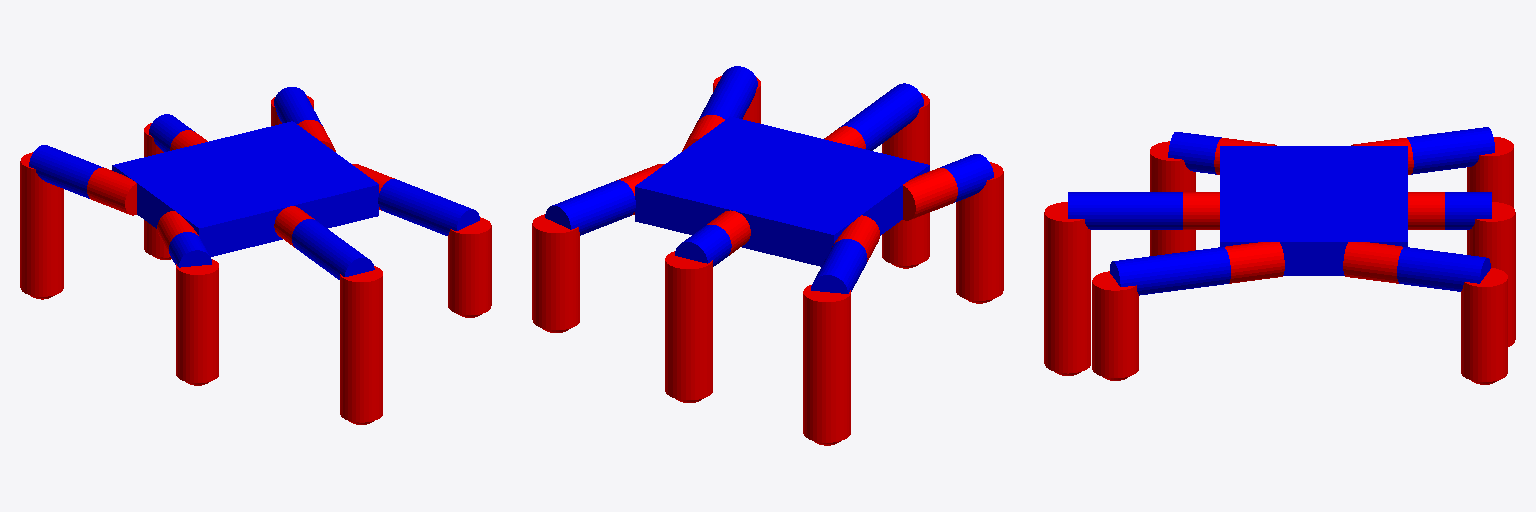
--- Render facts (derived) ---
Views: 3 orthographic renders of the robot side by side, from view 1: azimuth 30°, elevation 25°; view 2: azimuth 150°, elevation 25°; view 3: azimuth 270°, elevation 25°.
Robot: pexod — 19 links, 18 joints (18 revolute); root link base_link; default pose: every joint at zero.
Visible links, largest first — view 1: base_link, leg_4_3, leg_0_3, leg_5_3, leg_3_3, leg_3_2, leg_4_2, leg_0_2, leg_0_1, leg_2_2, leg_5_2, leg_1_3 (+3 smaller); view 2: base_link, leg_0_3, leg_1_3, leg_5_3, leg_2_3, leg_4_3, leg_2_2, leg_4_2, leg_0_2, leg_5_1, leg_3_2, leg_1_2 (+5 smaller); view 3: base_link, leg_4_3, leg_2_3, leg_3_3, leg_4_2, leg_3_2, leg_2_2, leg_1_3, leg_0_2, leg_5_3, leg_0_3, leg_2_1 (+5 smaller).
Boxes of the visible links, left/top/right/bottom form: base_link: left=112, top=121, right=378, bottom=256; leg_4_3: left=340, top=266, right=382, bottom=424; leg_0_3: left=20, top=152, right=63, bottom=299; leg_5_3: left=176, top=259, right=218, bottom=385; leg_3_3: left=448, top=217, right=491, bottom=317; leg_3_2: left=378, top=179, right=479, bottom=235; leg_4_2: left=292, top=219, right=374, bottom=279; leg_0_2: left=29, top=145, right=103, bottom=198; leg_0_1: left=87, top=167, right=136, bottom=215; leg_2_2: left=274, top=87, right=322, bottom=125; leg_5_2: left=169, top=232, right=211, bottom=267; leg_1_3: left=144, top=123, right=171, bottom=259; base_link: left=635, top=116, right=929, bottom=266; leg_0_3: left=803, top=285, right=850, bottom=445; leg_1_3: left=665, top=251, right=712, bottom=402; leg_5_3: left=956, top=162, right=1003, bottom=303; leg_2_3: left=532, top=214, right=579, bottom=332; leg_4_3: left=882, top=93, right=929, bottom=268; leg_2_2: left=545, top=180, right=635, bottom=235; leg_4_2: left=839, top=83, right=923, bottom=150; leg_0_2: left=811, top=239, right=867, bottom=293; leg_5_1: left=903, top=168, right=957, bottom=220; leg_3_2: left=697, top=66, right=757, bottom=121; leg_1_2: left=675, top=225, right=731, bottom=266; base_link: left=1220, top=146, right=1407, bottom=275; leg_4_3: left=1044, top=202, right=1090, bottom=375; leg_2_3: left=1461, top=268, right=1507, bottom=384; leg_3_3: left=1092, top=271, right=1138, bottom=380; leg_4_2: left=1068, top=192, right=1182, bottom=229; leg_3_2: left=1110, top=247, right=1230, bottom=295; leg_2_2: left=1397, top=247, right=1490, bottom=291; leg_1_3: left=1469, top=202, right=1515, bottom=346; leg_0_2: left=1407, top=127, right=1494, bottom=174; leg_5_3: left=1150, top=141, right=1195, bottom=255; leg_0_3: left=1467, top=137, right=1513, bottom=254; leg_2_1: left=1343, top=242, right=1402, bottom=283.
Bounding box of the posed robot: 0.3886 × 0.5019 × 0.2108 m (x, y, z).
Geometry: primitives only (box / cylinder / sphere), no mesh files.

URDF robot description (pexod):
<?xml version="1.0" ?>
<!-- =================================================================================== -->
<!-- |    This document was autogenerated by xacro from pexod.xacro                    | -->
<!-- |    EDITING THIS FILE BY HAND IS NOT RECOMMENDED                                 | -->
<!-- =================================================================================== -->
<robot name="pexod" xmlns:xacro="http://www.ros.org/wiki/xacro">
  <!-- <xacro:include filename="$(find pexod_description)/urdf/pexod_control.xacro" /> -->
  <!-- MATERIALS -->
  <material name="Blue">
    <color rgba="0 0 1 1"/>
  </material>
  <material name="Red">
    <color rgba="1 0 0 1"/>
  </material>
  <material name="Green">
    <color rgba="0 1 0 1"/>
  </material>
  <material name="Yellow">
    <color rgba="1 1 0 1"/>
  </material>
  <material name="LightGrey">
    <color rgba="0.6 0.6 0.6 1.0"/>
  </material>
  <!-- END OF MATERIALS -->
  <!-- XACRO MACROS FOR VISUALS AND COLLISIONS -->
  <!-- END OF XACRO MACROS -->
  <!-- TORSO -->
  <link name="base_link">
    <visual>
      <origin rpy="0 0 0" xyz="0 0 0"/>
      <geometry>
        <box size="0.24 0.2 0.04"/>
      </geometry>
      <material name="Blue"/>
    </visual>
    <collision>
      <origin rpy="0 0 0" xyz="0 0 0"/>
      <geometry>
        <box size="0.24 0.2 0.04"/>
      </geometry>
    </collision>
    <inertial>
      <!-- CENTER OF MASS -->
      <origin rpy="0 0 0" xyz="0 0 0"/>
      <mass value="1.031"/>
      <!-- box inertia: 1/12*m(y^2+z^2), ... -->
      <inertia ixx="0.00357413333333" ixy="0" ixz="0" iyy="0.00508626666667" iyz="0" izz="0.00838546666667"/>
    </inertial>
  </link>
  <!-- XACRO MACRO FOR LEGS LINKS/JOINTS -->
  <!-- END OF LEG LINKS/JOINTS -->
  <joint name="body_leg_2" type="revolute">
    <parent link="base_link"/>
    <child link="leg_2_1"/>
    <limit effort="30.0" lower="-1.57079632679" upper="1.57079632679" velocity="7.0"/>
    <origin rpy="0 0 -0.3" xyz="0.11 0.04 0"/>
    <!-- <xacro:if value="${index == 5 or index == 4 or index == 3}">
                <axis xyz="0 0 1"/>
            </xacro:if>
            <xacro:if value="${index == 2 or index == 1 or index == 0}"> -->
    <axis xyz="0 0 1"/>
    <!-- </xacro:if> -->
    <dynamics damping="0.0"/>
  </joint>
  <link name="leg_2_1">
    <visual>
      <origin rpy="1.57079632679 0 0" xyz="0.01 0.03 0"/>
      <geometry>
        <cylinder length="0.06" radius="0.02"/>
      </geometry>
      <material name="Red"/>
    </visual>
    <collision>
      <origin rpy="1.57079632679 0 0" xyz="0.01 0.03 0"/>
      <geometry>
        <box size="0.02 0.02 0.06"/>
      </geometry>
    </collision>
    <inertial>
      <!-- CENTER OF MASS -->
      <origin rpy="1.57079632679 0 0" xyz="0.01 0.03 0"/>
      <mass value="0.02"/>
      <!-- box inertia: 1/12*m(y^2+z^2), ... -->
      <inertia ixx="6.66666666667e-06" ixy="0" ixz="0" iyy="6.66666666667e-06" iyz="0" izz="1.33333333333e-06"/>
    </inertial>
  </link>
  <joint name="leg_2_1_2" type="revolute">
    <parent link="leg_2_1"/>
    <child link="leg_2_2"/>
    <limit effort="30.0" lower="-0.78539816339" upper="0.78539816339" velocity="7.0"/>
    <origin rpy="0 0 0" xyz="0 0.06 0"/>
    <axis xyz="1 0 0"/>
    <dynamics damping="0.0"/>
  </joint>
  <link name="leg_2_2">
    <visual>
      <origin rpy="1.57079632679 0 0" xyz="0.01 0.0461423257998 0"/>
      <geometry>
        <cylinder length="0.0922846515995" radius="0.02"/>
      </geometry>
      <material name="Blue"/>
    </visual>
    <collision>
      <origin rpy="1.57079632679 0 0" xyz="0.01 0.0461423257998 0"/>
      <geometry>
        <box size="0.02 0.02 0.0922846515995"/>
      </geometry>
    </collision>
    <inertial>
      <!-- CENTER OF MASS -->
      <origin rpy="1.57079632679 0 0" xyz="0.01 0.0461423257998 0"/>
      <mass value="0.184"/>
      <!-- box inertia: 1/12*m(y^2+z^2), ... -->
      <inertia ixx="0.00013671900612" ixy="0" ixz="0" iyy="0.00013671900612" iyz="0" izz="1.22666666667e-05"/>
    </inertial>
  </link>
  <joint name="leg_2_2_3" type="revolute">
    <parent link="leg_2_2"/>
    <child link="leg_2_3"/>
    <limit effort="30.0" lower="-0.78539816339" upper="0.78539816339" velocity="7.0"/>
    <origin rpy="-1.57079632679 0 0" xyz="0 0.0922846515995 0"/>
    <axis xyz="-1 0 0"/>
    <dynamics damping="0.0"/>
  </joint>
  <link name="leg_2_3">
    <visual>
      <origin rpy="1.57079632679 0 0" xyz="0.0125 0.055918504127 0"/>
      <geometry>
        <cylinder length="0.111837008254" radius="0.025"/>
      </geometry>
      <material name="Red"/>
    </visual>
    <visual>
      <origin rpy="1.57079632679 0 0" xyz="0.0125 0.099337008254 0"/>
      <geometry>
        <sphere radius="0.025"/>
      </geometry>
      <material name="Red"/>
    </visual>
    <collision>
      <origin rpy="1.57079632679 0 0" xyz="0.0125 0.055918504127 0"/>
      <geometry>
        <box size="0.025 0.025 0.111837008254"/>
      </geometry>
    </collision>
    <collision>
      <origin rpy="1.57079632679 0 0" xyz="0.0125 0.099337008254 0"/>
      <geometry>
        <sphere radius="0.025"/>
      </geometry>
      <material name="Red"/>
    </collision>
    <inertial>
      <!-- CENTER OF MASS -->
      <origin rpy="1.57079632679 0 0" xyz="0.0125 0.055918504127 0"/>
      <mass value="0.04"/>
      <!-- box inertia: 1/12*m(y^2+z^2), ... -->
      <inertia ixx="4.37750547174e-05" ixy="0" ixz="0" iyy="4.37750547174e-05" iyz="0" izz="4.16666666667e-06"/>
    </inertial>
  </link>
  <joint name="body_leg_3" type="revolute">
    <parent link="base_link"/>
    <child link="leg_3_1"/>
    <limit effort="30.0" lower="-1.57079632679" upper="1.57079632679" velocity="7.0"/>
    <origin rpy="0 0 0.3" xyz="0.11 -0.04 0"/>
    <!-- <xacro:if value="${index == 5 or index == 4 or index == 3}">
                <axis xyz="0 0 1"/>
            </xacro:if>
            <xacro:if value="${index == 2 or index == 1 or index == 0}"> -->
    <axis xyz="0 0 1"/>
    <!-- </xacro:if> -->
    <dynamics damping="0.0"/>
  </joint>
  <link name="leg_3_1">
    <visual>
      <origin rpy="1.57079632679 0 0" xyz="0.01 -0.03 0"/>
      <geometry>
        <cylinder length="0.06" radius="0.02"/>
      </geometry>
      <material name="Red"/>
    </visual>
    <collision>
      <origin rpy="1.57079632679 0 0" xyz="0.01 -0.03 0"/>
      <geometry>
        <box size="0.02 0.02 0.06"/>
      </geometry>
    </collision>
    <inertial>
      <!-- CENTER OF MASS -->
      <origin rpy="1.57079632679 0 0" xyz="0.01 -0.03 0"/>
      <mass value="0.02"/>
      <!-- box inertia: 1/12*m(y^2+z^2), ... -->
      <inertia ixx="6.66666666667e-06" ixy="0" ixz="0" iyy="6.66666666667e-06" iyz="0" izz="1.33333333333e-06"/>
    </inertial>
  </link>
  <joint name="leg_3_1_2" type="revolute">
    <parent link="leg_3_1"/>
    <child link="leg_3_2"/>
    <limit effort="30.0" lower="-0.78539816339" upper="0.78539816339" velocity="7.0"/>
    <origin rpy="0 0 0" xyz="0 -0.06 0"/>
    <axis xyz="-1 0 0"/>
    <dynamics damping="0.0"/>
  </joint>
  <link name="leg_3_2">
    <visual>
      <origin rpy="1.57079632679 0 0" xyz="0.01 -0.061566948721 0"/>
      <geometry>
        <cylinder length="0.123133897442" radius="0.02"/>
      </geometry>
      <material name="Blue"/>
    </visual>
    <collision>
      <origin rpy="1.57079632679 0 0" xyz="0.01 -0.061566948721 0"/>
      <geometry>
        <box size="0.02 0.02 0.123133897442"/>
      </geometry>
    </collision>
    <inertial>
      <!-- CENTER OF MASS -->
      <origin rpy="1.57079632679 0 0" xyz="0.01 -0.061566948721 0"/>
      <mass value="0.184"/>
      <!-- box inertia: 1/12*m(y^2+z^2), ... -->
      <inertia ixx="0.000238616669389" ixy="0" ixz="0" iyy="0.000238616669389" iyz="0" izz="1.22666666667e-05"/>
    </inertial>
  </link>
  <joint name="leg_3_2_3" type="revolute">
    <parent link="leg_3_2"/>
    <child link="leg_3_3"/>
    <limit effort="30.0" lower="-0.78539816339" upper="0.78539816339" velocity="7.0"/>
    <origin rpy="1.57079632679 0 0" xyz="0 -0.123133897442 0"/>
    <axis xyz="1 0 0"/>
    <dynamics damping="0.0"/>
  </joint>
  <link name="leg_3_3">
    <visual>
      <origin rpy="1.57079632679 0 0" xyz="0.0125 -0.051517532942 0"/>
      <geometry>
        <cylinder length="0.103035065884" radius="0.025"/>
      </geometry>
      <material name="Red"/>
    </visual>
    <visual>
      <origin rpy="1.57079632679 0 0" xyz="0.0125 -0.090535065884 0"/>
      <geometry>
        <sphere radius="0.025"/>
      </geometry>
      <material name="Red"/>
    </visual>
    <collision>
      <origin rpy="1.57079632679 0 0" xyz="0.0125 -0.051517532942 0"/>
      <geometry>
        <box size="0.025 0.025 0.103035065884"/>
      </geometry>
    </collision>
    <collision>
      <origin rpy="1.57079632679 0 0" xyz="0.0125 -0.090535065884 0"/>
      <geometry>
        <sphere radius="0.025"/>
      </geometry>
      <material name="Red"/>
    </collision>
    <inertial>
      <!-- CENTER OF MASS -->
      <origin rpy="1.57079632679 0 0" xyz="0.0125 -0.051517532942 0"/>
      <mass value="0.04"/>
      <!-- box inertia: 1/12*m(y^2+z^2), ... -->
      <inertia ixx="3.74707493391e-05" ixy="0" ixz="0" iyy="3.74707493391e-05" iyz="0" izz="4.16666666667e-06"/>
    </inertial>
  </link>
  <joint name="body_leg_0" type="revolute">
    <parent link="base_link"/>
    <child link="leg_0_1"/>
    <limit effort="30.0" lower="-1.57079632679" upper="1.57079632679" velocity="7.0"/>
    <origin rpy="0 0 0.3" xyz="-0.13 0.04 0"/>
    <!-- <xacro:if value="${index == 5 or index == 4 or index == 3}">
                <axis xyz="0 0 1"/>
            </xacro:if>
            <xacro:if value="${index == 2 or index == 1 or index == 0}"> -->
    <axis xyz="0 0 1"/>
    <!-- </xacro:if> -->
    <dynamics damping="0.0"/>
  </joint>
  <link name="leg_0_1">
    <visual>
      <origin rpy="1.57079632679 0 0" xyz="0.01 0.03 0"/>
      <geometry>
        <cylinder length="0.06" radius="0.02"/>
      </geometry>
      <material name="Red"/>
    </visual>
    <collision>
      <origin rpy="1.57079632679 0 0" xyz="0.01 0.03 0"/>
      <geometry>
        <box size="0.02 0.02 0.06"/>
      </geometry>
    </collision>
    <inertial>
      <!-- CENTER OF MASS -->
      <origin rpy="1.57079632679 0 0" xyz="0.01 0.03 0"/>
      <mass value="0.02"/>
      <!-- box inertia: 1/12*m(y^2+z^2), ... -->
      <inertia ixx="6.66666666667e-06" ixy="0" ixz="0" iyy="6.66666666667e-06" iyz="0" izz="1.33333333333e-06"/>
    </inertial>
  </link>
  <joint name="leg_0_1_2" type="revolute">
    <parent link="leg_0_1"/>
    <child link="leg_0_2"/>
    <limit effort="30.0" lower="-0.78539816339" upper="0.78539816339" velocity="7.0"/>
    <origin rpy="0 0 0" xyz="0 0.06 0"/>
    <axis xyz="1 0 0"/>
    <dynamics damping="0.0"/>
  </joint>
  <link name="leg_0_2">
    <visual>
      <origin rpy="1.57079632679 0 0" xyz="0.01 0.045612338478 0"/>
      <geometry>
        <cylinder length="0.0912246769561" radius="0.02"/>
      </geometry>
      <material name="Blue"/>
    </visual>
    <collision>
      <origin rpy="1.57079632679 0 0" xyz="0.01 0.045612338478 0"/>
      <geometry>
        <box size="0.02 0.02 0.0912246769561"/>
      </geometry>
    </collision>
    <inertial>
      <!-- CENTER OF MASS -->
      <origin rpy="1.57079632679 0 0" xyz="0.01 0.045612338478 0"/>
      <mass value="0.184"/>
      <!-- box inertia: 1/12*m(y^2+z^2), ... -->
      <inertia ixx="0.000133736439181" ixy="0" ixz="0" iyy="0.000133736439181" iyz="0" izz="1.22666666667e-05"/>
    </inertial>
  </link>
  <joint name="leg_0_2_3" type="revolute">
    <parent link="leg_0_2"/>
    <child link="leg_0_3"/>
    <limit effort="30.0" lower="-0.78539816339" upper="0.78539816339" velocity="7.0"/>
    <origin rpy="-1.57079632679 0 0" xyz="0 0.0912246769561 0"/>
    <axis xyz="-1 0 0"/>
    <dynamics damping="0.0"/>
  </joint>
  <link name="leg_0_3">
    <visual>
      <origin rpy="1.57079632679 0 0" xyz="0.0125 0.0808482551345 0"/>
      <geometry>
        <cylinder length="0.161696510269" radius="0.025"/>
      </geometry>
      <material name="Red"/>
    </visual>
    <visual>
      <origin rpy="1.57079632679 0 0" xyz="0.0125 0.149196510269 0"/>
      <geometry>
        <sphere radius="0.025"/>
      </geometry>
      <material name="Red"/>
    </visual>
    <collision>
      <origin rpy="1.57079632679 0 0" xyz="0.0125 0.0808482551345 0"/>
      <geometry>
        <box size="0.025 0.025 0.161696510269"/>
      </geometry>
    </collision>
    <collision>
      <origin rpy="1.57079632679 0 0" xyz="0.0125 0.149196510269 0"/>
      <geometry>
        <sphere radius="0.025"/>
      </geometry>
      <material name="Red"/>
    </collision>
    <inertial>
      <!-- CENTER OF MASS -->
      <origin rpy="1.57079632679 0 0" xyz="0.0125 0.0808482551345 0"/>
      <mass value="0.04"/>
      <!-- box inertia: 1/12*m(y^2+z^2), ... -->
      <inertia ixx="8.92358714439e-05" ixy="0" ixz="0" iyy="8.92358714439e-05" iyz="0" izz="4.16666666667e-06"/>
    </inertial>
  </link>
  <joint name="body_leg_5" type="revolute">
    <parent link="base_link"/>
    <child link="leg_5_1"/>
    <limit effort="30.0" lower="-1.57079632679" upper="1.57079632679" velocity="7.0"/>
    <origin rpy="0 0 -0.3" xyz="-0.13 -0.04 0"/>
    <!-- <xacro:if value="${index == 5 or index == 4 or index == 3}">
                <axis xyz="0 0 1"/>
            </xacro:if>
            <xacro:if value="${index == 2 or index == 1 or index == 0}"> -->
    <axis xyz="0 0 1"/>
    <!-- </xacro:if> -->
    <dynamics damping="0.0"/>
  </joint>
  <link name="leg_5_1">
    <visual>
      <origin rpy="1.57079632679 0 0" xyz="0.01 -0.03 0"/>
      <geometry>
        <cylinder length="0.06" radius="0.02"/>
      </geometry>
      <material name="Red"/>
    </visual>
    <collision>
      <origin rpy="1.57079632679 0 0" xyz="0.01 -0.03 0"/>
      <geometry>
        <box size="0.02 0.02 0.06"/>
      </geometry>
    </collision>
    <inertial>
      <!-- CENTER OF MASS -->
      <origin rpy="1.57079632679 0 0" xyz="0.01 -0.03 0"/>
      <mass value="0.02"/>
      <!-- box inertia: 1/12*m(y^2+z^2), ... -->
      <inertia ixx="6.66666666667e-06" ixy="0" ixz="0" iyy="6.66666666667e-06" iyz="0" izz="1.33333333333e-06"/>
    </inertial>
  </link>
  <joint name="leg_5_1_2" type="revolute">
    <parent link="leg_5_1"/>
    <child link="leg_5_2"/>
    <limit effort="30.0" lower="-0.78539816339" upper="0.78539816339" velocity="7.0"/>
    <origin rpy="0 0 0" xyz="0 -0.06 0"/>
    <axis xyz="-1 0 0"/>
    <dynamics damping="0.0"/>
  </joint>
  <link name="leg_5_2">
    <visual>
      <origin rpy="1.57079632679 0 0" xyz="0.01 -0.0257237012384 0"/>
      <geometry>
        <cylinder length="0.0514474024768" radius="0.02"/>
      </geometry>
      <material name="Blue"/>
    </visual>
    <collision>
      <origin rpy="1.57079632679 0 0" xyz="0.01 -0.0257237012384 0"/>
      <geometry>
        <box size="0.02 0.02 0.0514474024768"/>
      </geometry>
    </collision>
    <inertial>
      <!-- CENTER OF MASS -->
      <origin rpy="1.57079632679 0 0" xyz="0.01 -0.0257237012384 0"/>
      <mass value="0.184"/>
      <!-- box inertia: 1/12*m(y^2+z^2), ... -->
      <inertia ixx="4.67181400647e-05" ixy="0" ixz="0" iyy="4.67181400647e-05" iyz="0" izz="1.22666666667e-05"/>
    </inertial>
  </link>
  <joint name="leg_5_2_3" type="revolute">
    <parent link="leg_5_2"/>
    <child link="leg_5_3"/>
    <limit effort="30.0" lower="-0.78539816339" upper="0.78539816339" velocity="7.0"/>
    <origin rpy="1.57079632679 0 0" xyz="0 -0.0514474024768 0"/>
    <axis xyz="1 0 0"/>
    <dynamics damping="0.0"/>
  </joint>
  <link name="leg_5_3">
    <visual>
      <origin rpy="1.57079632679 0 0" xyz="0.0125 -0.068853743271 0"/>
      <geometry>
        <cylinder length="0.137707486542" radius="0.025"/>
      </geometry>
      <material name="Red"/>
    </visual>
    <visual>
      <origin rpy="1.57079632679 0 0" xyz="0.0125 -0.125207486542 0"/>
      <geometry>
        <sphere radius="0.025"/>
      </geometry>
      <material name="Red"/>
    </visual>
    <collision>
      <origin rpy="1.57079632679 0 0" xyz="0.0125 -0.068853743271 0"/>
      <geometry>
        <box size="0.025 0.025 0.137707486542"/>
      </geometry>
    </collision>
    <collision>
      <origin rpy="1.57079632679 0 0" xyz="0.0125 -0.125207486542 0"/>
      <geometry>
        <sphere radius="0.025"/>
      </geometry>
      <material name="Red"/>
    </collision>
    <inertial>
      <!-- CENTER OF MASS -->
      <origin rpy="1.57079632679 0 0" xyz="0.0125 -0.068853743271 0"/>
      <mass value="0.04"/>
      <!-- box inertia: 1/12*m(y^2+z^2), ... -->
      <inertia ixx="6.52945061657e-05" ixy="0" ixz="0" iyy="6.52945061657e-05" iyz="0" izz="4.16666666667e-06"/>
    </inertial>
  </link>
  <joint name="body_leg_1" type="revolute">
    <parent link="base_link"/>
    <child link="leg_1_1"/>
    <limit effort="30.0" lower="-1.57079632679" upper="1.57079632679" velocity="7.0"/>
    <origin rpy="0 0 0" xyz="-0.01 0.08 0"/>
    <!-- <xacro:if value="${index == 5 or index == 4 or index == 3}">
                <axis xyz="0 0 1"/>
            </xacro:if>
            <xacro:if value="${index == 2 or index == 1 or index == 0}"> -->
    <axis xyz="0 0 1"/>
    <!-- </xacro:if> -->
    <dynamics damping="0.0"/>
  </joint>
  <link name="leg_1_1">
    <visual>
      <origin rpy="1.57079632679 0 0" xyz="0.01 0.03 0"/>
      <geometry>
        <cylinder length="0.06" radius="0.02"/>
      </geometry>
      <material name="Red"/>
    </visual>
    <collision>
      <origin rpy="1.57079632679 0 0" xyz="0.01 0.03 0"/>
      <geometry>
        <box size="0.02 0.02 0.06"/>
      </geometry>
    </collision>
    <inertial>
      <!-- CENTER OF MASS -->
      <origin rpy="1.57079632679 0 0" xyz="0.01 0.03 0"/>
      <mass value="0.02"/>
      <!-- box inertia: 1/12*m(y^2+z^2), ... -->
      <inertia ixx="6.66666666667e-06" ixy="0" ixz="0" iyy="6.66666666667e-06" iyz="0" izz="1.33333333333e-06"/>
    </inertial>
  </link>
  <joint name="leg_1_1_2" type="revolute">
    <parent link="leg_1_1"/>
    <child link="leg_1_2"/>
    <limit effort="30.0" lower="-0.78539816339" upper="0.78539816339" velocity="7.0"/>
    <origin rpy="0 0 0" xyz="0 0.06 0"/>
    <axis xyz="1 0 0"/>
    <dynamics damping="0.0"/>
  </joint>
  <link name="leg_1_2">
    <visual>
      <origin rpy="1.57079632679 0 0" xyz="0.01 0.02485023341 0"/>
      <geometry>
        <cylinder length="0.0497004668199" radius="0.02"/>
      </geometry>
      <material name="Blue"/>
    </visual>
    <collision>
      <origin rpy="1.57079632679 0 0" xyz="0.01 0.02485023341 0"/>
      <geometry>
        <box size="0.02 0.02 0.0497004668199"/>
      </geometry>
    </collision>
    <inertial>
      <!-- CENTER OF MASS -->
      <origin rpy="1.57079632679 0 0" xyz="0.01 0.02485023341 0"/>
      <mass value="0.184"/>
      <!-- box inertia: 1/12*m(y^2+z^2), ... -->
      <inertia ixx="4.40087581658e-05" ixy="0" ixz="0" iyy="4.40087581658e-05" iyz="0" izz="1.22666666667e-05"/>
    </inertial>
  </link>
  <joint name="leg_1_2_3" type="revolute">
    <parent link="leg_1_2"/>
    <child link="leg_1_3"/>
    <limit effort="30.0" lower="-0.78539816339" upper="0.78539816339" velocity="7.0"/>
    <origin rpy="-1.57079632679 0 0" xyz="0 0.0497004668199 0"/>
    <axis xyz="-1 0 0"/>
    <dynamics damping="0.0"/>
  </joint>
  <link name="leg_1_3">
    <visual>
      <origin rpy="1.57079632679 0 0" xyz="0.0125 0.07544298918 0"/>
      <geometry>
        <cylinder length="0.15088597836" radius="0.025"/>
      </geometry>
      <material name="Red"/>
    </visual>
    <visual>
      <origin rpy="1.57079632679 0 0" xyz="0.0125 0.13838597836 0"/>
      <geometry>
        <sphere radius="0.025"/>
      </geometry>
      <material name="Red"/>
    </visual>
    <collision>
      <origin rpy="1.57079632679 0 0" xyz="0.0125 0.07544298918 0"/>
      <geometry>
        <box size="0.025 0.025 0.15088597836"/>
      </geometry>
    </collision>
    <collision>
      <origin rpy="1.57079632679 0 0" xyz="0.0125 0.13838597836 0"/>
      <geometry>
        <sphere radius="0.025"/>
      </geometry>
      <material name="Red"/>
    </collision>
    <inertial>
      <!-- CENTER OF MASS -->
      <origin rpy="1.57079632679 0 0" xyz="0.0125 0.07544298918 0"/>
      <mass value="0.04"/>
      <!-- box inertia: 1/12*m(y^2+z^2), ... -->
      <inertia ixx="7.79719282188e-05" ixy="0" ixz="0" iyy="7.79719282188e-05" iyz="0" izz="4.16666666667e-06"/>
    </inertial>
  </link>
  <joint name="body_leg_4" type="revolute">
    <parent link="base_link"/>
    <child link="leg_4_1"/>
    <limit effort="30.0" lower="-1.57079632679" upper="1.57079632679" velocity="7.0"/>
    <origin rpy="0 0 0" xyz="-0.01 -0.08 0"/>
    <!-- <xacro:if value="${index == 5 or index == 4 or index == 3}">
                <axis xyz="0 0 1"/>
            </xacro:if>
            <xacro:if value="${index == 2 or index == 1 or index == 0}"> -->
    <axis xyz="0 0 1"/>
    <!-- </xacro:if> -->
    <dynamics damping="0.0"/>
  </joint>
  <link name="leg_4_1">
    <visual>
      <origin rpy="1.57079632679 0 0" xyz="0.01 -0.03 0"/>
      <geometry>
        <cylinder length="0.06" radius="0.02"/>
      </geometry>
      <material name="Red"/>
    </visual>
    <collision>
      <origin rpy="1.57079632679 0 0" xyz="0.01 -0.03 0"/>
      <geometry>
        <box size="0.02 0.02 0.06"/>
      </geometry>
    </collision>
    <inertial>
      <!-- CENTER OF MASS -->
      <origin rpy="1.57079632679 0 0" xyz="0.01 -0.03 0"/>
      <mass value="0.02"/>
      <!-- box inertia: 1/12*m(y^2+z^2), ... -->
      <inertia ixx="6.66666666667e-06" ixy="0" ixz="0" iyy="6.66666666667e-06" iyz="0" izz="1.33333333333e-06"/>
    </inertial>
  </link>
  <joint name="leg_4_1_2" type="revolute">
    <parent link="leg_4_1"/>
    <child link="leg_4_2"/>
    <limit effort="30.0" lower="-0.78539816339" upper="0.78539816339" velocity="7.0"/>
    <origin rpy="0 0 0" xyz="0 -0.06 0"/>
    <axis xyz="-1 0 0"/>
    <dynamics damping="0.0"/>
  </joint>
  <link name="leg_4_2">
    <visual>
      <origin rpy="1.57079632679 0 0" xyz="0.01 -0.06109433089 0"/>
      <geometry>
        <cylinder length="0.12218866178" radius="0.02"/>
      </geometry>
      <material name="Blue"/>
    </visual>
    <collision>
      <origin rpy="1.57079632679 0 0" xyz="0.01 -0.06109433089 0"/>
      <geometry>
        <box size="0.02 0.02 0.12218866178"/>
      </geometry>
    </collision>
    <inertial>
      <!-- CENTER OF MASS -->
      <origin rpy="1.57079632679 0 0" xyz="0.01 -0.06109433089 0"/>
      <mass value="0.184"/>
      <!-- box inertia: 1/12*m(y^2+z^2), ... -->
      <inertia ixx="0.000235061059036" ixy="0" ixz="0" iyy="0.000235061059036" iyz="0" izz="1.22666666667e-05"/>
    </inertial>
  </link>
  <joint name="leg_4_2_3" type="revolute">
    <parent link="leg_4_2"/>
    <child link="leg_4_3"/>
    <limit effort="30.0" lower="-0.78539816339" upper="0.78539816339" velocity="7.0"/>
    <origin rpy="1.57079632679 0 0" xyz="0 -0.12218866178 0"/>
    <axis xyz="1 0 0"/>
    <dynamics damping="0.0"/>
  </joint>
  <link name="leg_4_3">
    <visual>
      <origin rpy="1.57079632679 0 0" xyz="0.0125 -0.089149177224 0"/>
      <geometry>
        <cylinder length="0.178298354448" radius="0.025"/>
      </geometry>
      <material name="Red"/>
    </visual>
    <visual>
      <origin rpy="1.57079632679 0 0" xyz="0.0125 -0.165798354448 0"/>
      <geometry>
        <sphere radius="0.025"/>
      </geometry>
      <material name="Red"/>
    </visual>
    <collision>
      <origin rpy="1.57079632679 0 0" xyz="0.0125 -0.089149177224 0"/>
      <geometry>
        <box size="0.025 0.025 0.178298354448"/>
      </geometry>
    </collision>
    <collision>
      <origin rpy="1.57079632679 0 0" xyz="0.0125 -0.165798354448 0"/>
      <geometry>
        <sphere radius="0.025"/>
      </geometry>
      <material name="Red"/>
    </collision>
    <inertial>
      <!-- CENTER OF MASS -->
      <origin rpy="1.57079632679 0 0" xyz="0.0125 -0.089149177224 0"/>
      <mass value="0.04"/>
      <!-- box inertia: 1/12*m(y^2+z^2), ... -->
      <inertia ixx="0.000108051010663" ixy="0" ixz="0" iyy="0.000108051010663" iyz="0" izz="4.16666666667e-06"/>
    </inertial>
  </link>
  <!-- END OF LEG LINKS/JOINTS -->
</robot>
